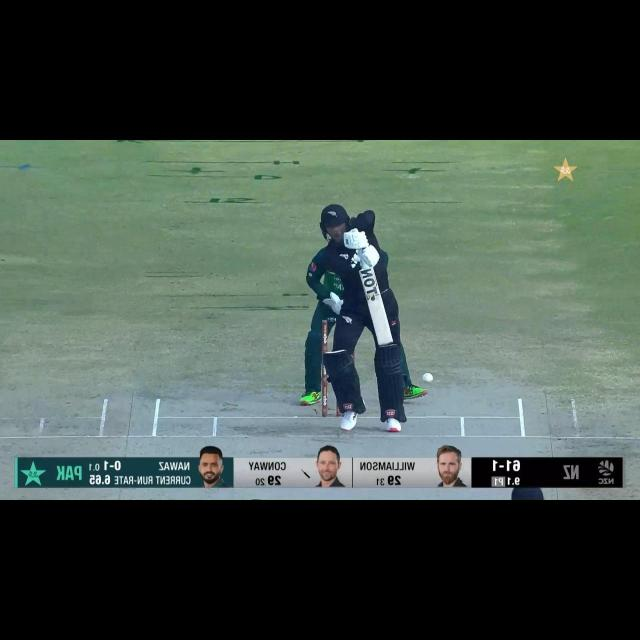bat: (358, 270, 397, 350)
toe: (374, 328, 397, 349)
